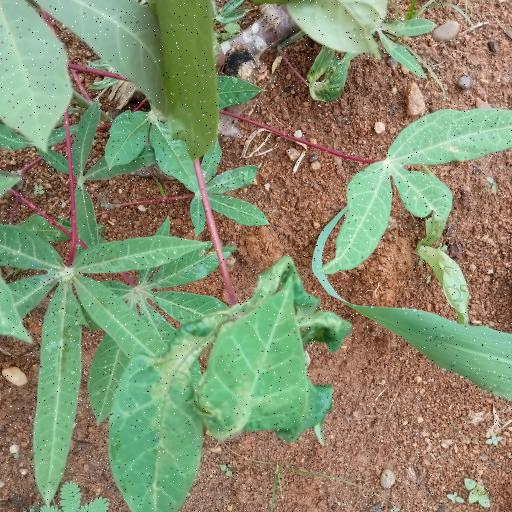Cassava_Mosaic: (112, 251, 345, 508), (0, 222, 192, 488), (328, 110, 512, 309)
